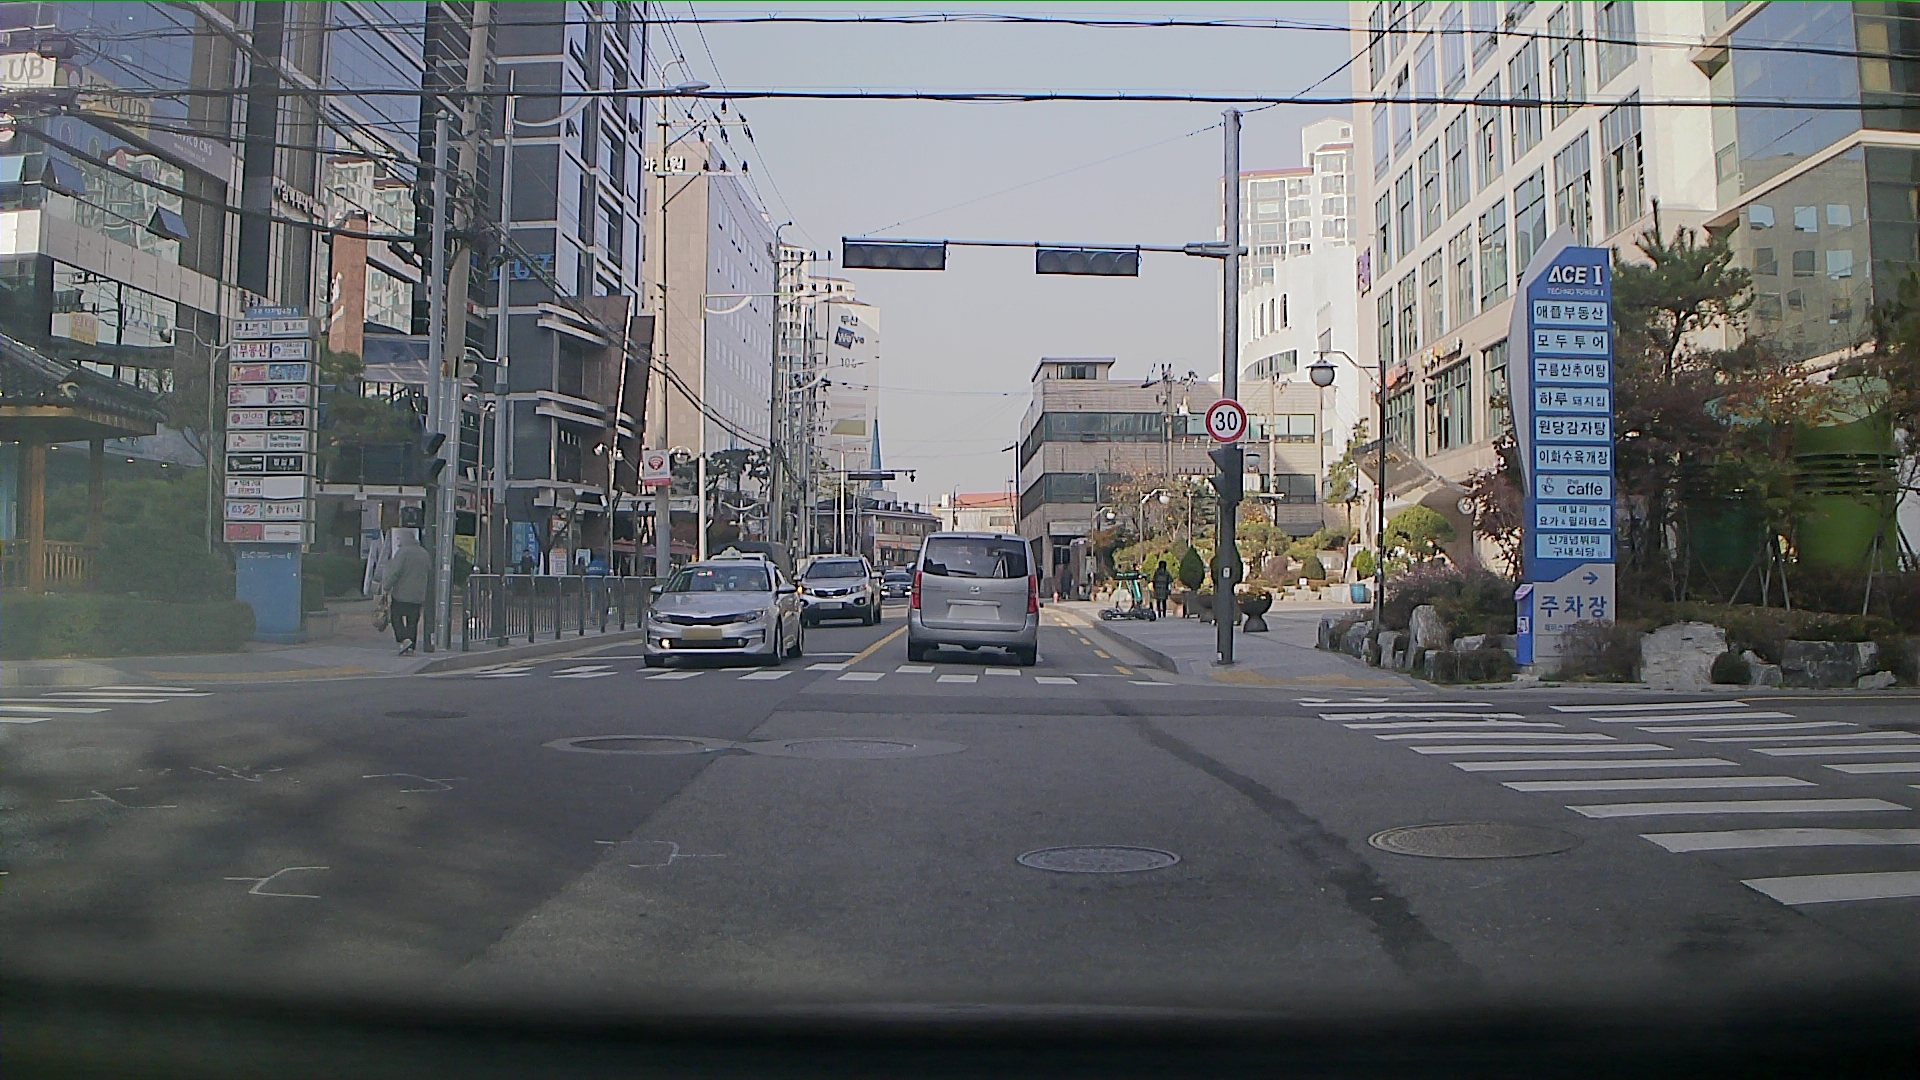trafficLight: (837, 241, 957, 276), (1034, 247, 1143, 276)
trafficLightBar: (1211, 454, 1240, 505)
trafficSignCircle: (1208, 398, 1244, 440)
